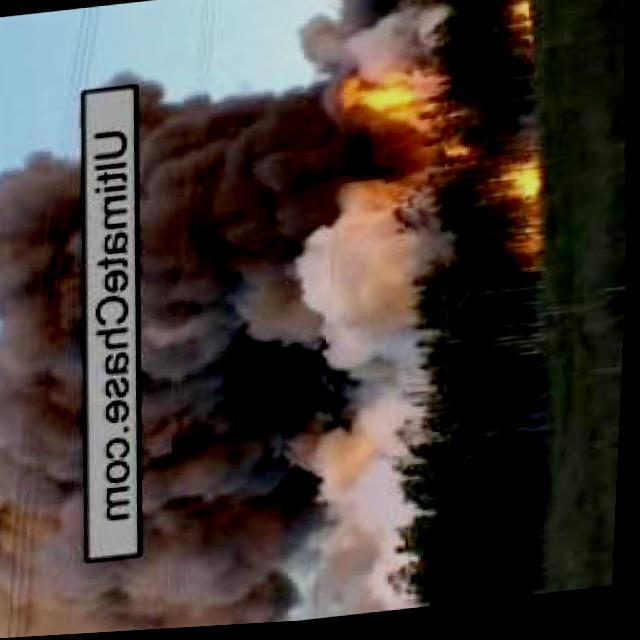helmet: (325, 67, 472, 179), (484, 164, 541, 210), (501, 8, 535, 42), (519, 236, 545, 266)
no_helmet: (114, 65, 451, 634), (0, 147, 105, 640)
